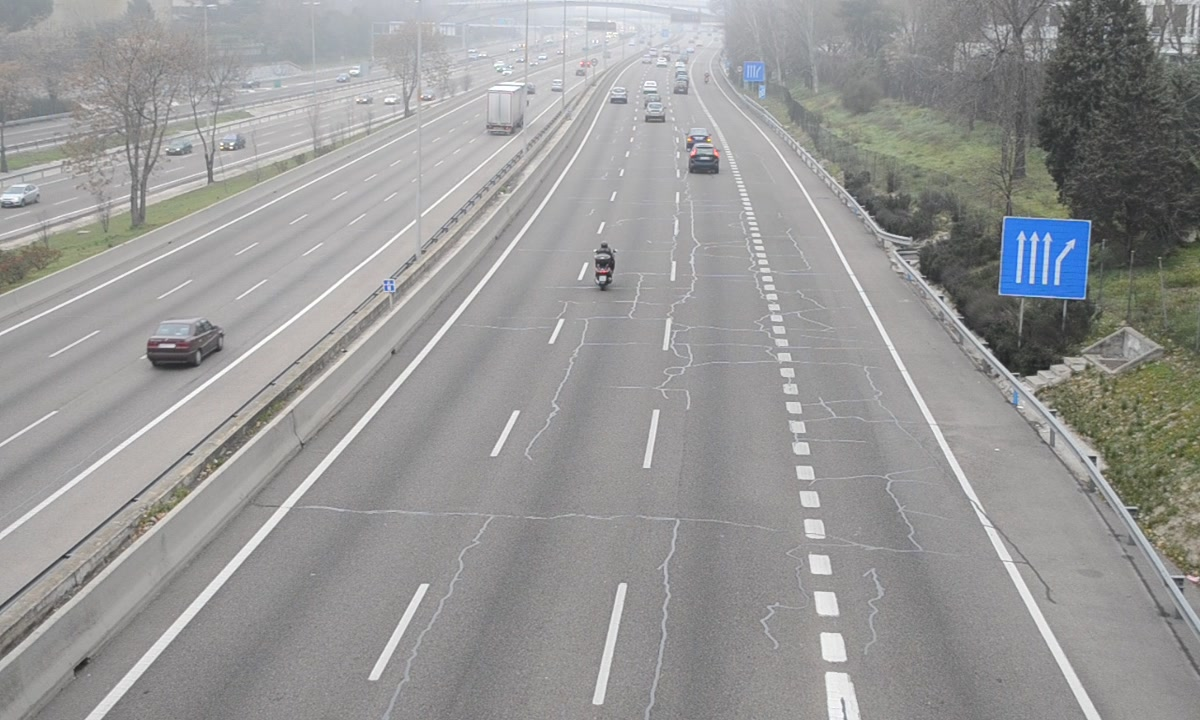car: (689, 143, 721, 175)
motorcycle: (594, 242, 615, 290)
